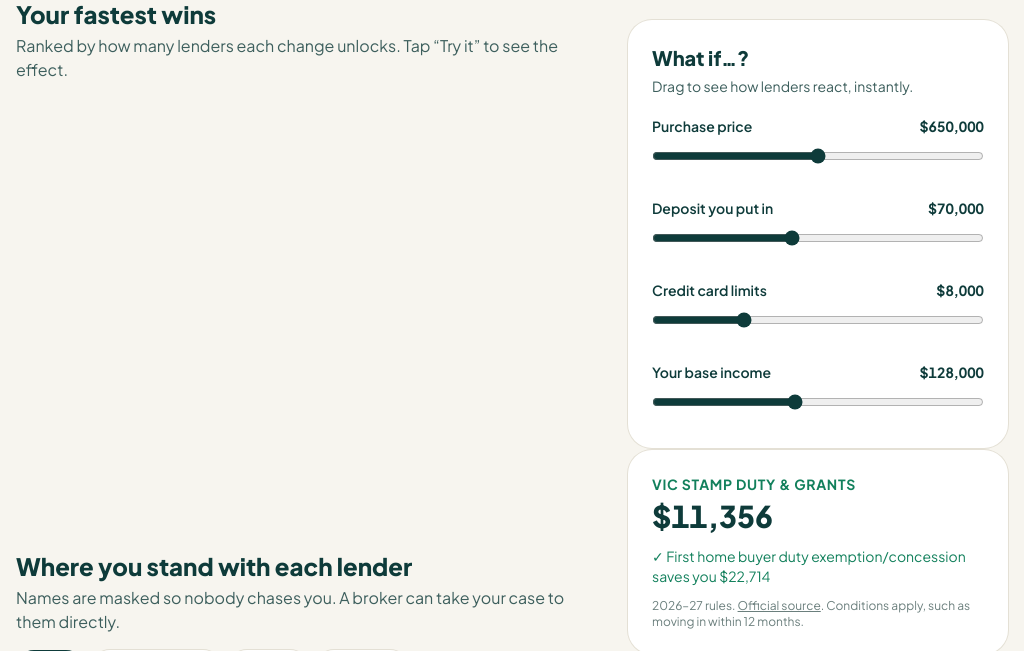
Scenario: Your report › labels and moves only the main borrower’s income on a joint application
This screenshot has width=1024, height=651.
(page scrolled)
Set the slider labelled "Your base income $128,000" to "150000" at (818,402), box [652,386,984,418]
(page scrolled)
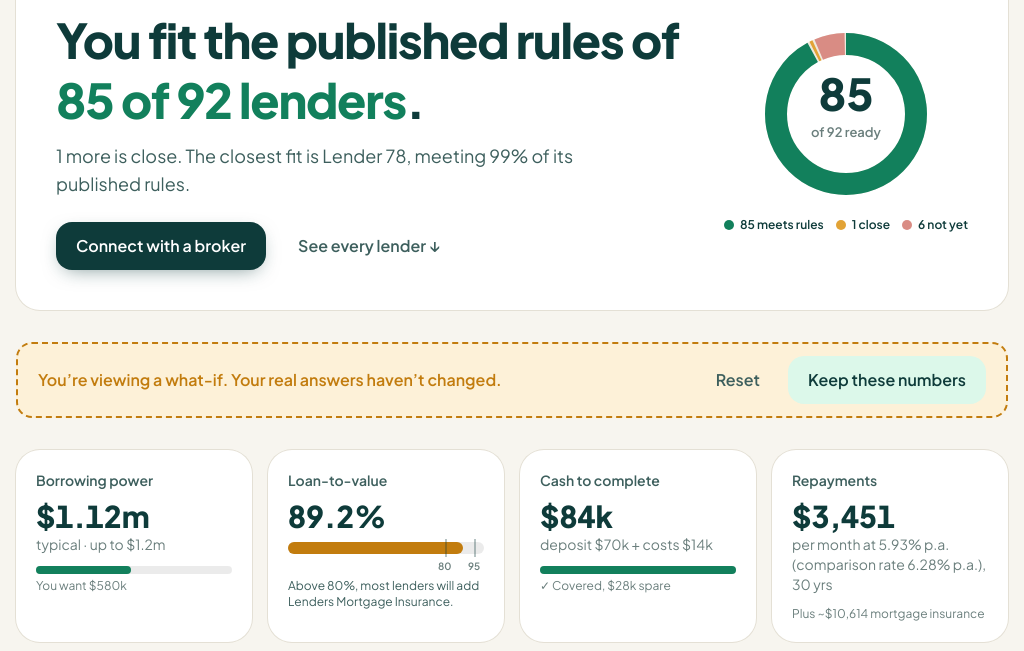
expect the text "You’re viewing a what-if. Your real answers haven’t changed." is shown: met, box [38,368,502,392]
